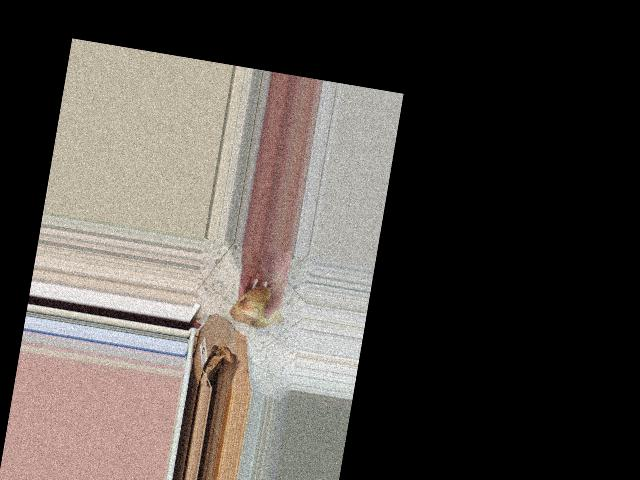onion: (227, 277, 285, 337)
